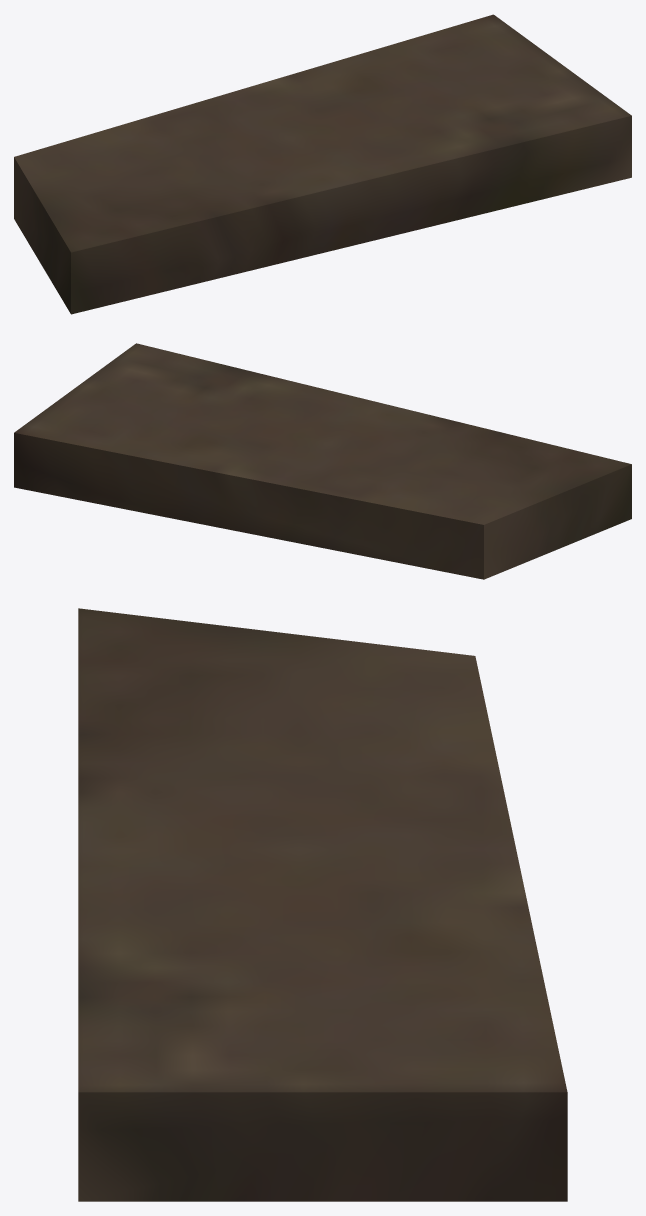
File: slsd_shitoui_02.FBX
The picture shows the model from 3 angles, top to bottom: view 1: azimuth 30°, elevation 25°; view 2: azimuth 150°, elevation 25°; view 3: azimuth 270°, elevation 25°; orthographic projection. The views are drawn at different scales.
Visible parts, largest first — view 1: slsd_shitoui_02; view 2: slsd_shitoui_02; view 3: slsd_shitoui_02.
Boxes of the visible parts, x1,y1,x2,y2 form: slsd_shitoui_02: (14, 14, 631, 314); slsd_shitoui_02: (14, 343, 631, 579); slsd_shitoui_02: (78, 608, 567, 1201).
Size of the model in its own units: 147 by 15.49 by 62.71.
